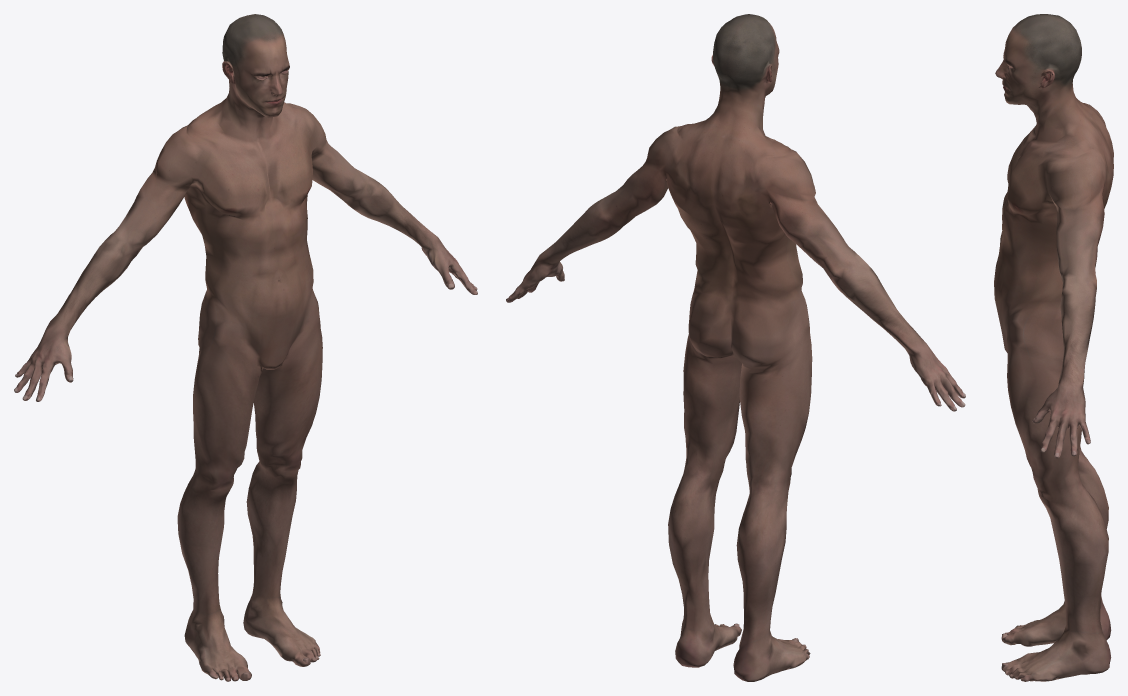
The model's file is breathing.fbx.
3 renders of one model, left to right at view 1: azimuth 30°, elevation 25°; view 2: azimuth 150°, elevation 25°; view 3: azimuth 270°, elevation 25°, orthographic.
Parts seen in each view (by area): view 1: breathing_BS; view 2: breathing_BS; view 3: breathing_BS.
Part boxes in pixels (box(x1,y1,x2,y2)): breathing_BS: box(14, 14, 477, 681); breathing_BS: box(506, 14, 965, 681); breathing_BS: box(994, 14, 1113, 681).
Size of the model in its own units: 67.6 by 91.35 by 15.48.
